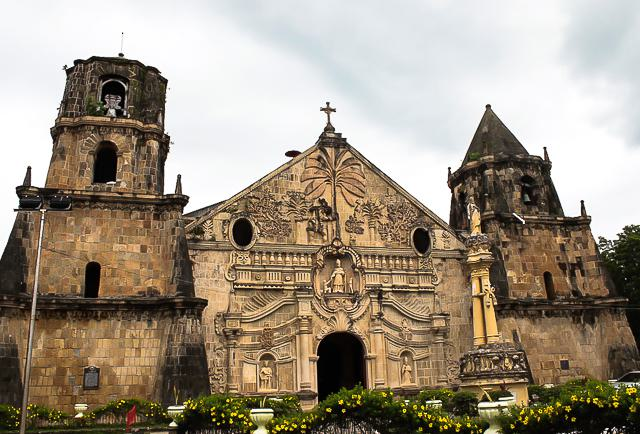Environmental Damage: (80, 95, 107, 121), (465, 149, 484, 167)
Miagao Church: (1, 31, 640, 400)
